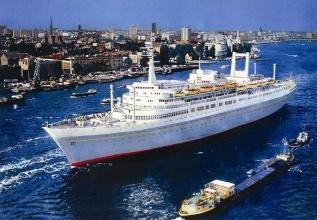Cargoship: (175, 151, 294, 217)
otherboat: (289, 131, 311, 148)
youlun: (41, 47, 299, 167)
